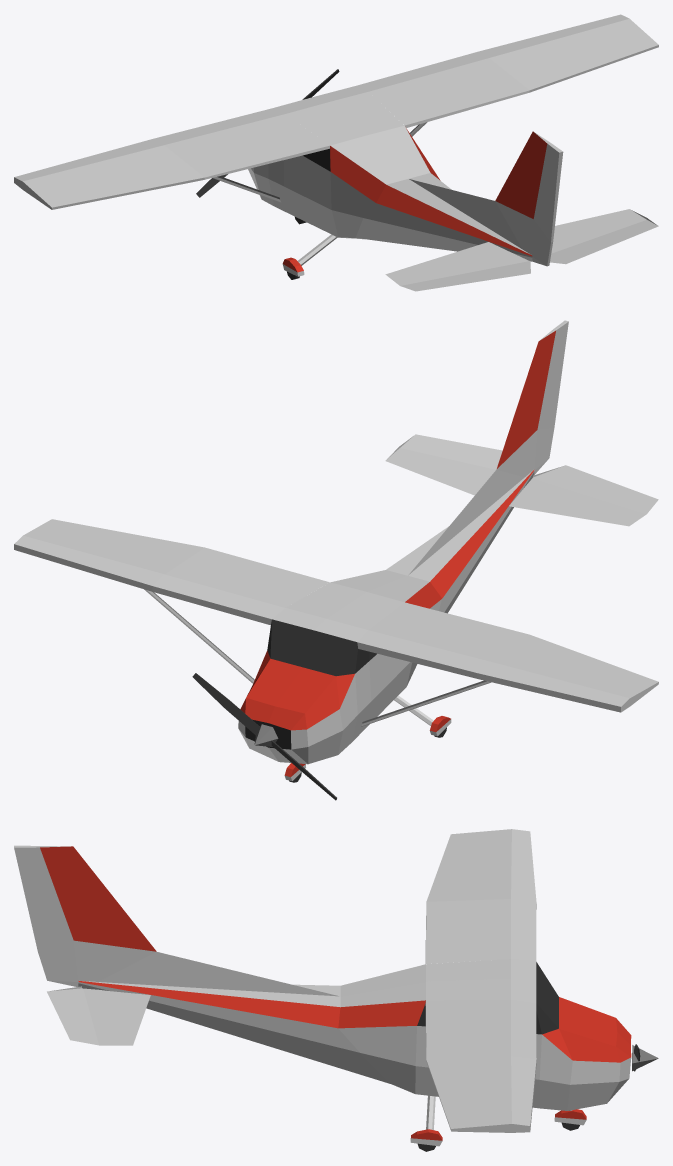
Rendered from Small Airplane.glb.
3 views of the same model, one above another, from view 1: azimuth 30°, elevation 25°; view 2: azimuth 150°, elevation 25°; view 3: azimuth 270°, elevation 25° (orthographic). The views are drawn at different scales.
Visible parts, largest first — view 1: Fuselage_Cube.003; view 2: Fuselage_Cube.003, Propeller_Cone; view 3: Fuselage_Cube.003.
Part boxes in pixels (box(x1,y1,x2,y2)): Fuselage_Cube.003: box(14, 14, 658, 291); Fuselage_Cube.003: box(14, 320, 658, 782); Propeller_Cone: box(192, 673, 336, 800); Fuselage_Cube.003: box(14, 829, 631, 1151).
Bounding box in the file's own units: 11.07 × 4.67 × 9.73.
